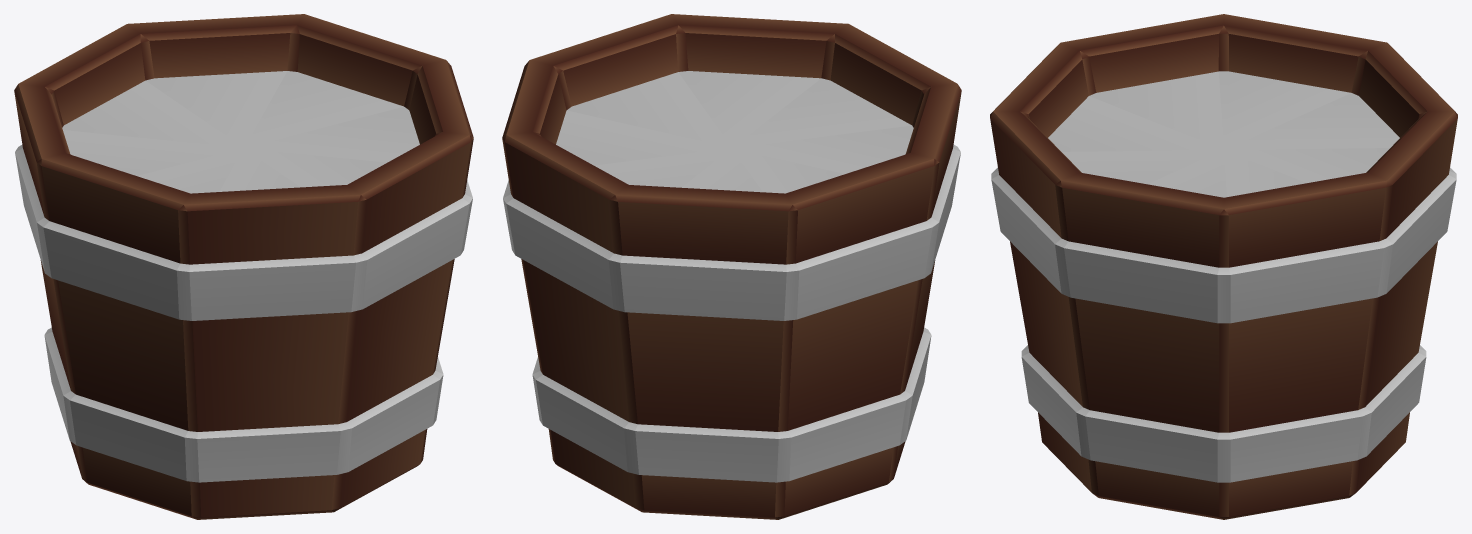
The model's file is SILVER BUCKET.fbx.
3 views of the same model, side by side, from view 1: azimuth 30°, elevation 25°; view 2: azimuth 150°, elevation 25°; view 3: azimuth 270°, elevation 25° (orthographic).
Parts seen in each view (by area): view 1: Barell; view 2: Barell; view 3: Barell.
Boxes of the visible parts, box(x1,y1,x2,y2) form: Barell: box(14, 14, 473, 519); Barell: box(502, 14, 961, 519); Barell: box(990, 14, 1457, 519).
Bounding box in the file's own units: 49.78 × 39.15 × 49.78.
